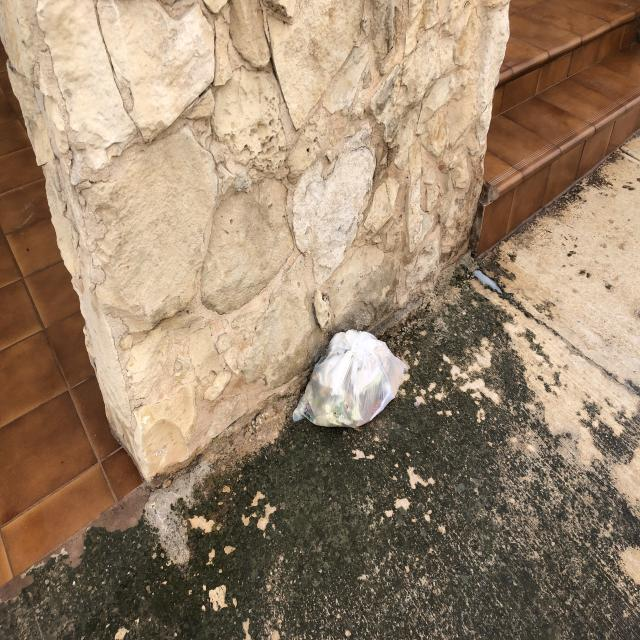Organic Waste -White Bag-: (278, 323, 415, 436)
